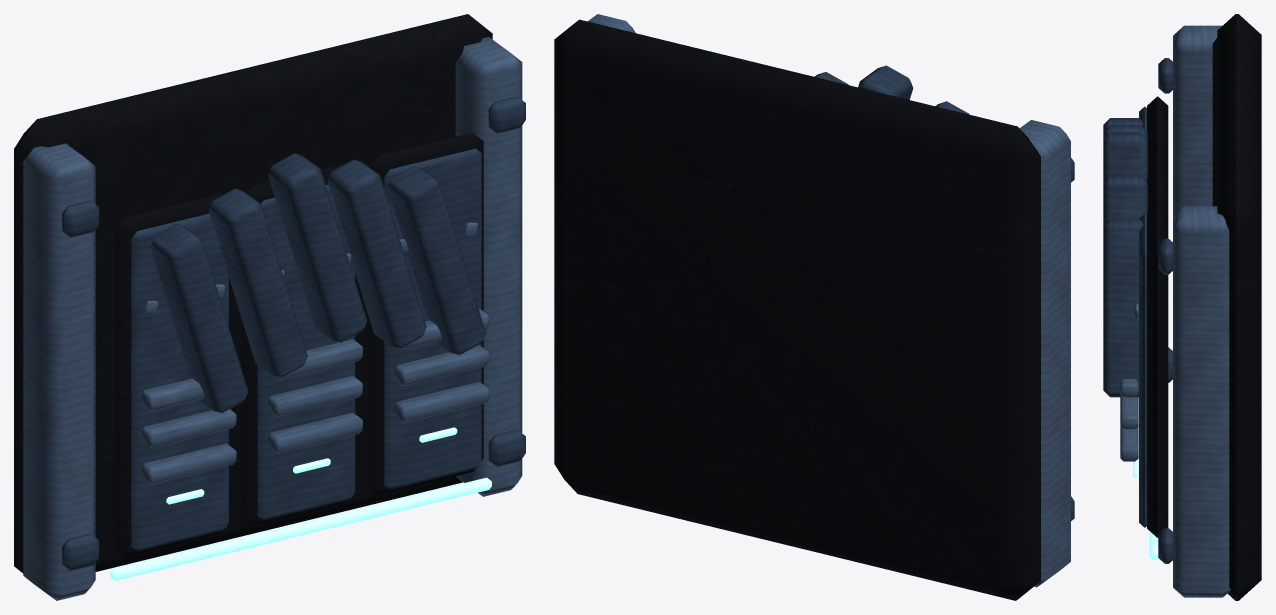
File: sky_dock_fixture.glb
The picture shows the model from 3 angles, left to right: view 1: azimuth 30°, elevation 25°; view 2: azimuth 150°, elevation 25°; view 3: azimuth 270°, elevation 25°; orthographic projection. The views are drawn at different scales.
Parts seen in each view (by area): view 1: sky_dock_fixture - sky_dock panels, sky_dock_fixture - Recessed iron, sky_dock_fixture - sky_dock trim, sky_dock_fixture - sky_dock accents; view 2: sky_dock_fixture - Recessed iron, sky_dock_fixture - sky_dock trim, sky_dock_fixture - sky_dock panels; view 3: sky_dock_fixture - Recessed iron, sky_dock_fixture - sky_dock trim, sky_dock_fixture - sky_dock panels, sky_dock_fixture - sky_dock accents.
Boxes of the visible parts, x1,y1,x2,y2 form: sky_dock_fixture - sky_dock panels: (62,96,525,570); sky_dock_fixture - Recessed iron: (14,14,492,573); sky_dock_fixture - sky_dock trim: (23,37,522,600); sky_dock_fixture - sky_dock accents: (110,427,491,580); sky_dock_fixture - Recessed iron: (554,19,1040,600); sky_dock_fixture - sky_dock trim: (588,14,1070,587); sky_dock_fixture - sky_dock panels: (814,65,1074,520); sky_dock_fixture - Recessed iron: (1147,14,1261,600); sky_dock_fixture - sky_dock trim: (1120,25,1230,597); sky_dock_fixture - sky_dock panels: (1103,58,1172,563); sky_dock_fixture - sky_dock accents: (1133,459,1158,560).
Bounding box in the file's own units: 3.13 × 2.92 × 1.03.
4 materials, 3 textured.
